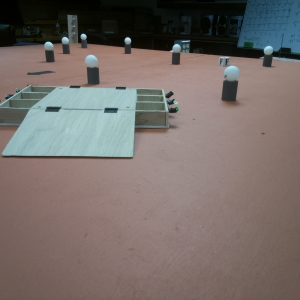obstacle: (221, 66, 240, 102), (84, 53, 101, 83), (43, 42, 56, 63), (262, 45, 273, 67), (172, 43, 181, 67), (122, 35, 134, 52), (61, 37, 70, 54), (81, 33, 89, 49)
side: (164, 87, 182, 120)
slope: (1, 107, 137, 161)
